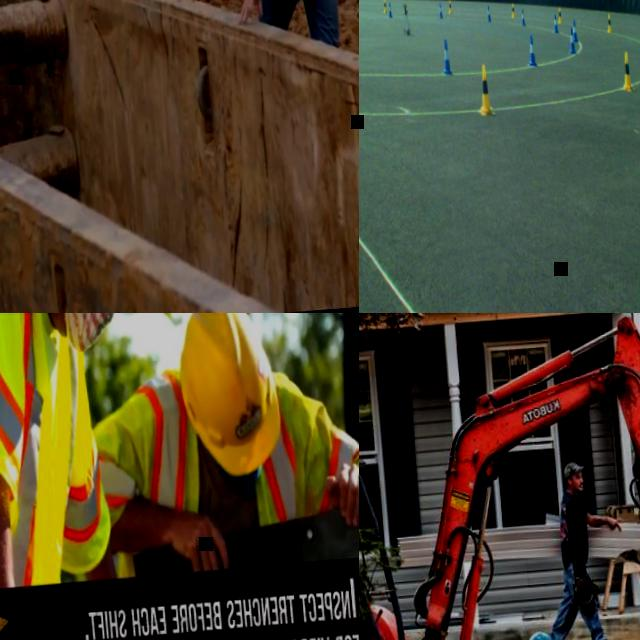helmet: (172, 313, 284, 479)
machinery: (359, 313, 640, 640)
mask: (54, 313, 120, 355), (218, 466, 261, 499)
no_helmet: (524, 626, 560, 640), (560, 459, 586, 476)
no_mask: (570, 480, 584, 490)
no_vest: (557, 494, 588, 558)
person: (84, 313, 359, 577), (0, 313, 189, 597), (535, 454, 635, 640)
safety_cone: (476, 62, 495, 114), (620, 48, 634, 90), (441, 38, 452, 74), (526, 34, 536, 65), (568, 27, 576, 52), (572, 18, 578, 41), (606, 12, 612, 32), (552, 13, 558, 32), (486, 3, 492, 20), (521, 8, 526, 24), (438, 2, 443, 16), (558, 6, 562, 22), (388, 1, 392, 16), (511, 2, 515, 15), (383, 0, 388, 10), (449, 0, 453, 11)
vest: (91, 355, 359, 540), (0, 313, 115, 598)
